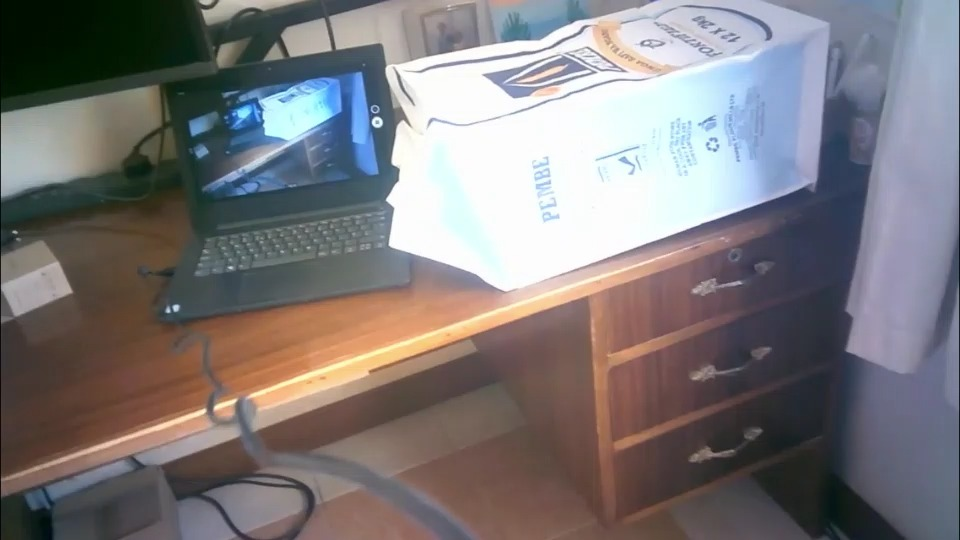wheat_flour_blue_label: (391, 2, 824, 289)
